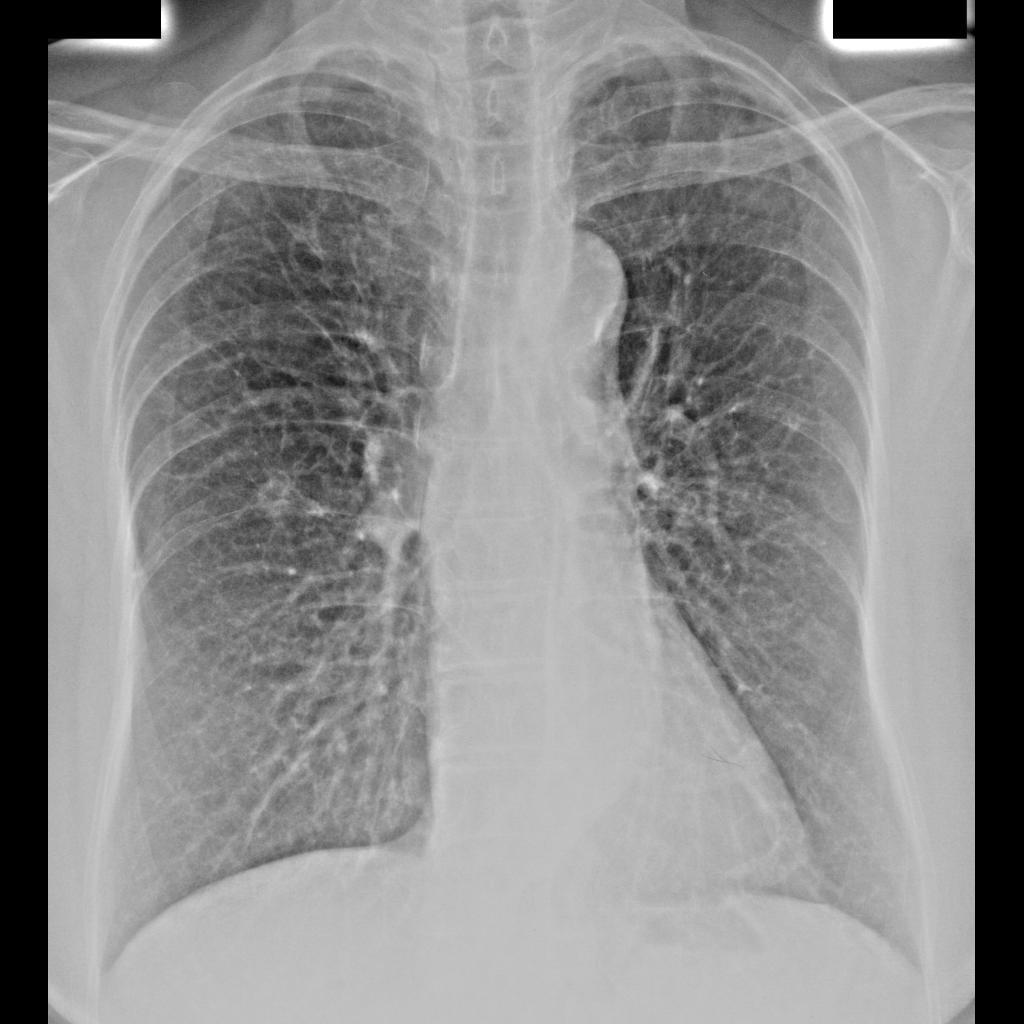Nodule: (260, 479, 297, 516)
